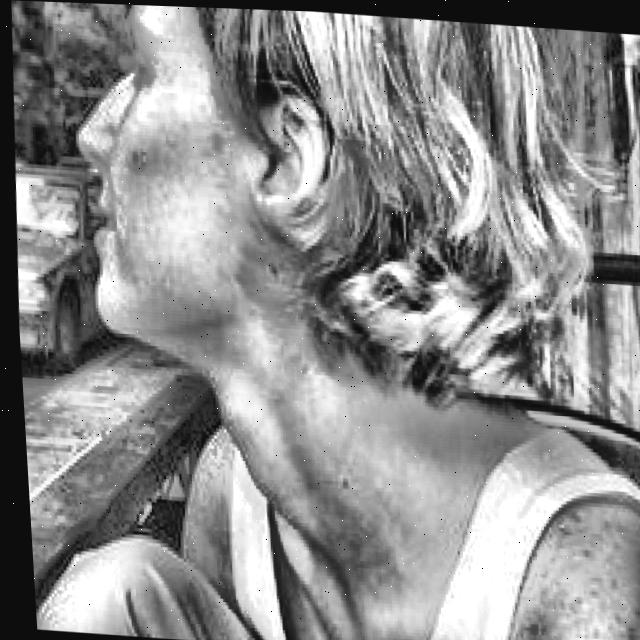light_vehicle: (7, 158, 101, 374)
